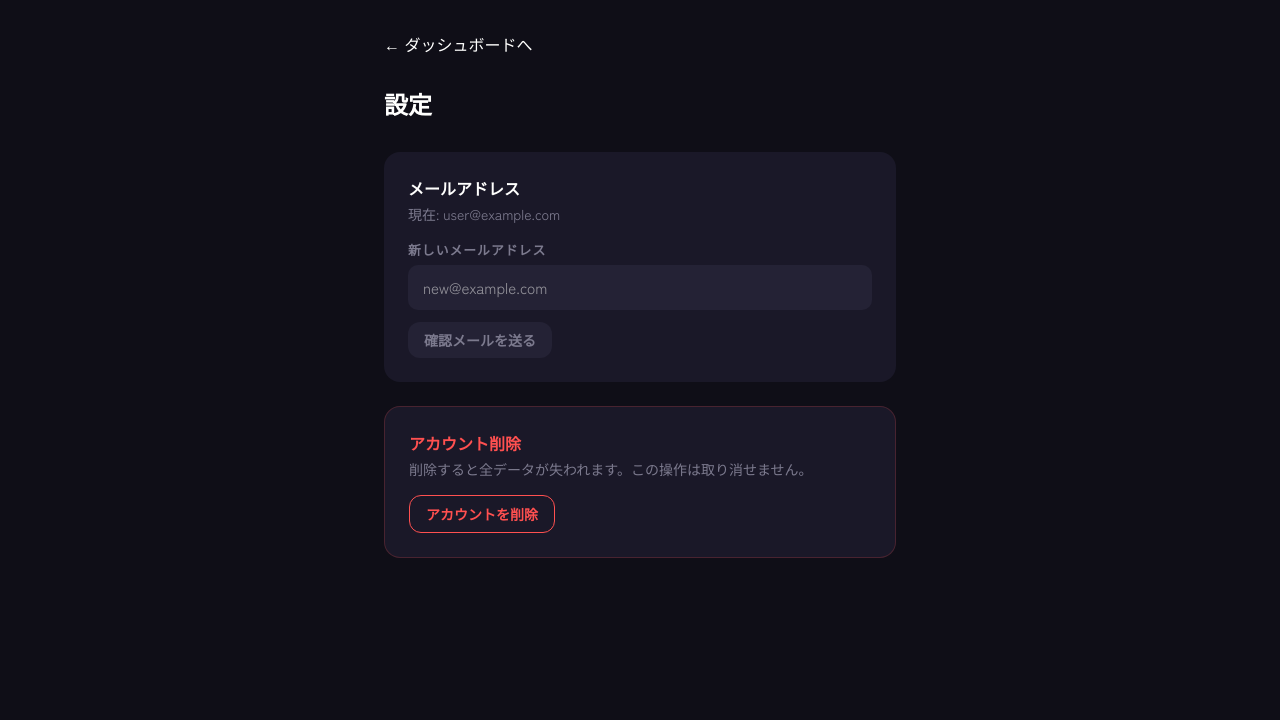
SettingsPage - アカウント削除 › 「アカウントを削除」ボタンをクリックすると確認ダイアログが表示される
What coordinates should you click on to do the following:
click the button "アカウントを削除"
I would click on:
 (482, 514)
Its box is [409,495,555,533].
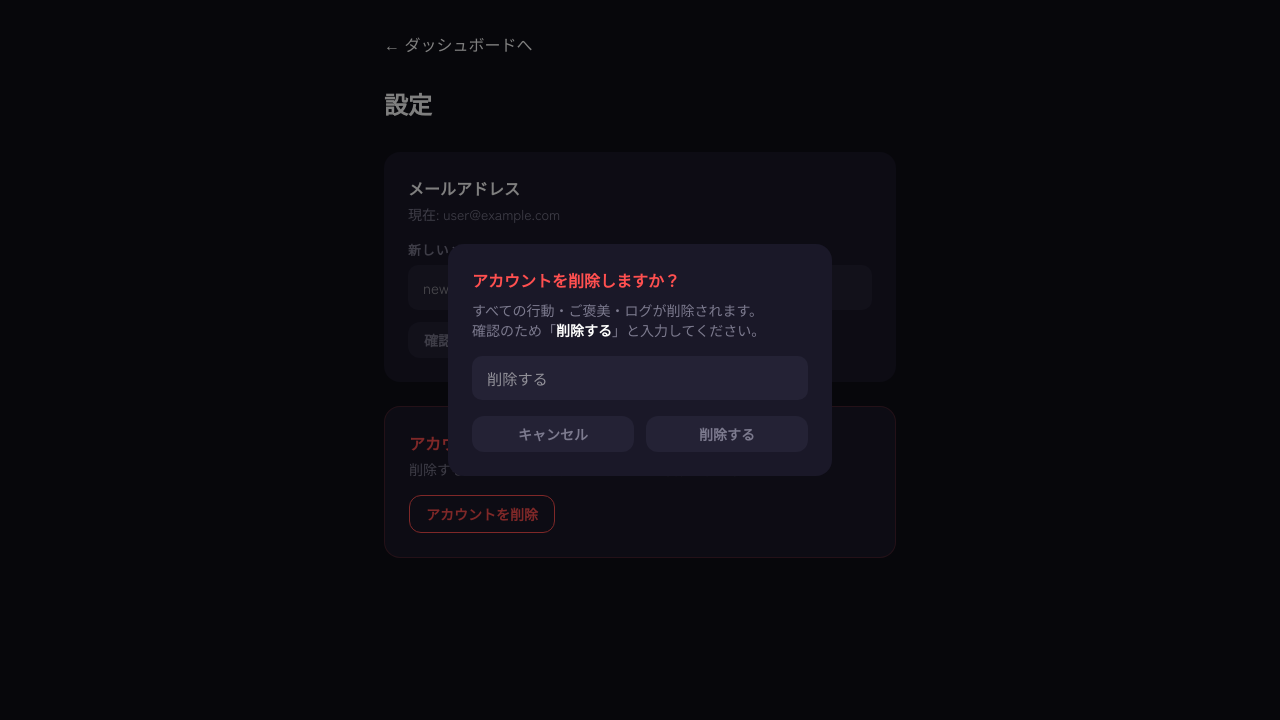
Expected: the heading "アカウントを削除しますか？" is shown, [472,268,680,292]
